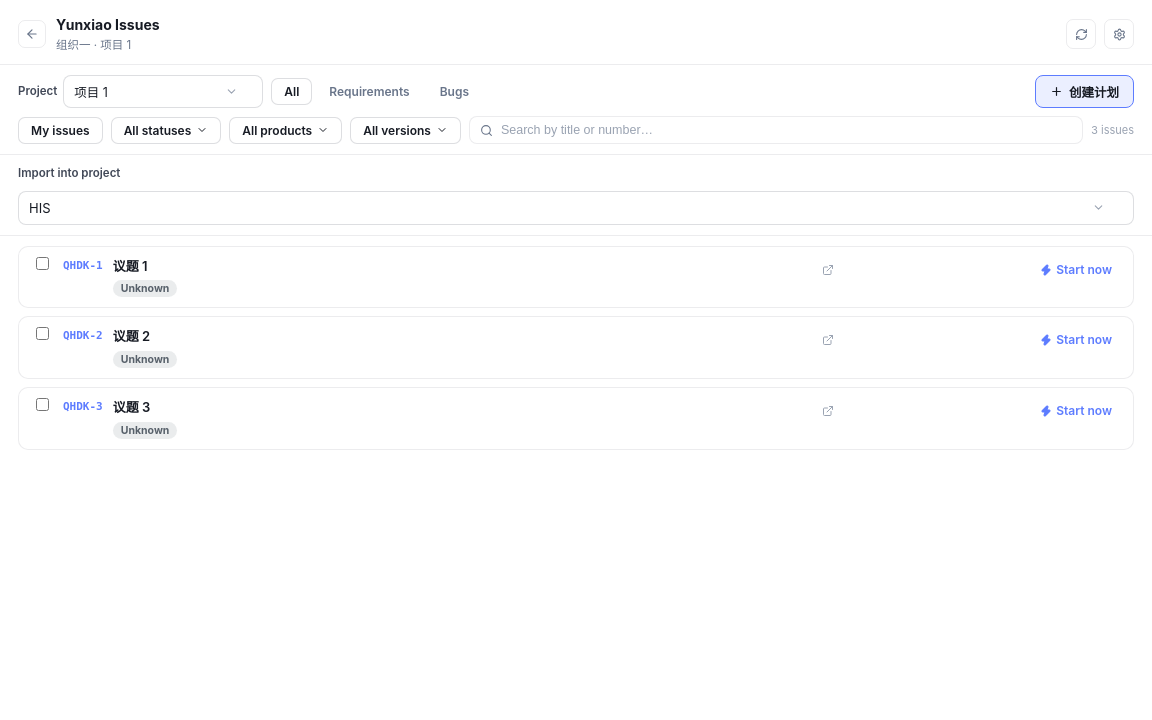
Scenario: YunxiaoView 添加到计划：勾选数与加入数一致 › 列表在勾选后收缩时，弹窗仍应带上全部 3 个已勾选议题
The width and height of the screenshot is (1152, 720).
Click the checkbox next to "QHDK-1".
click(42, 263)  # box x1=36 y1=256 x2=48 y2=270
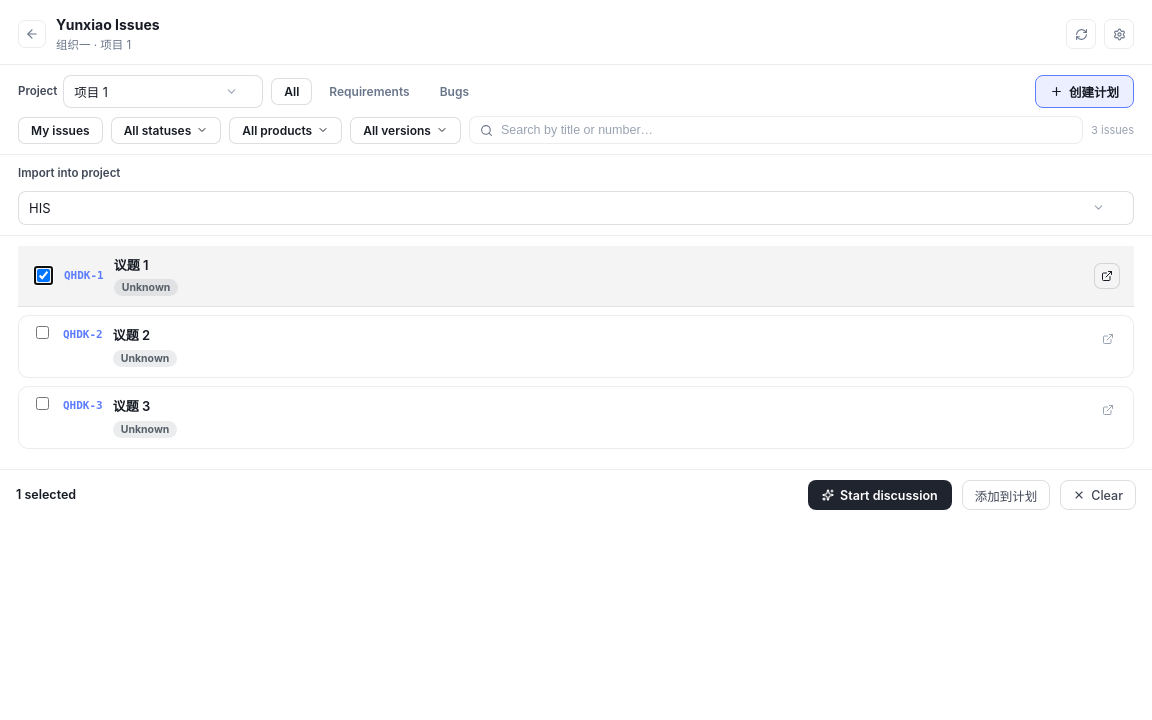
Click the checkbox next to "QHDK-2".
click(42, 333)  # box x1=36 y1=326 x2=48 y2=339
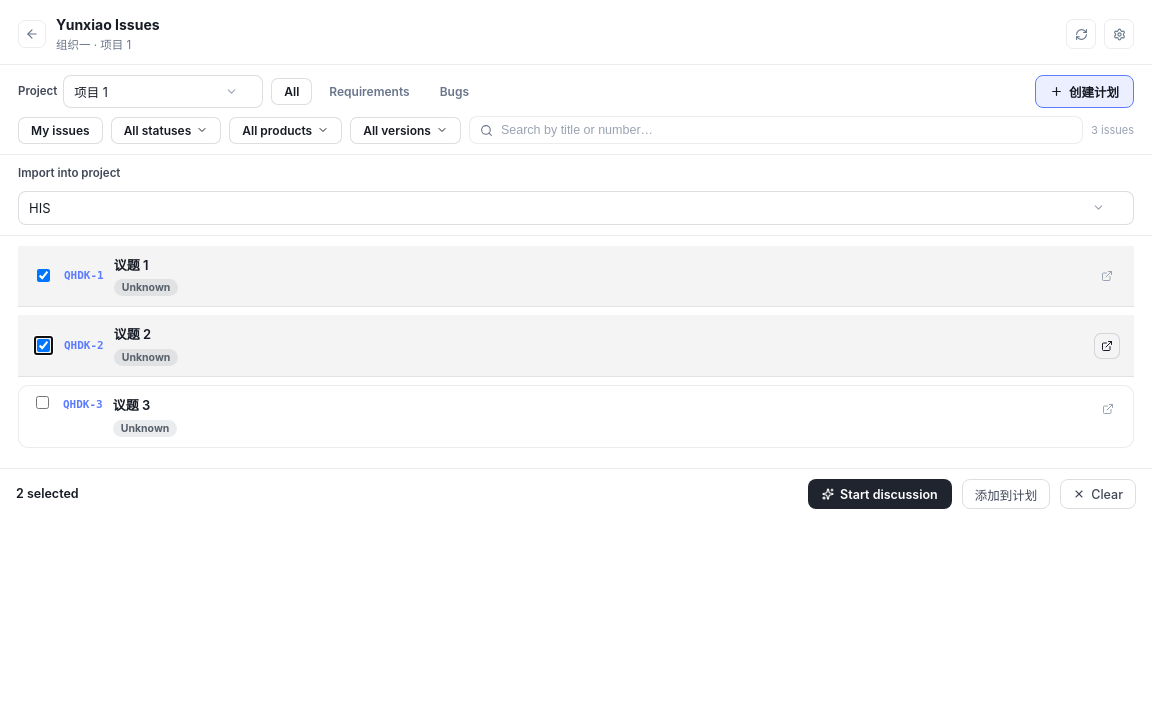
Click the checkbox next to "QHDK-3".
click(42, 403)  # box x1=36 y1=396 x2=48 y2=409
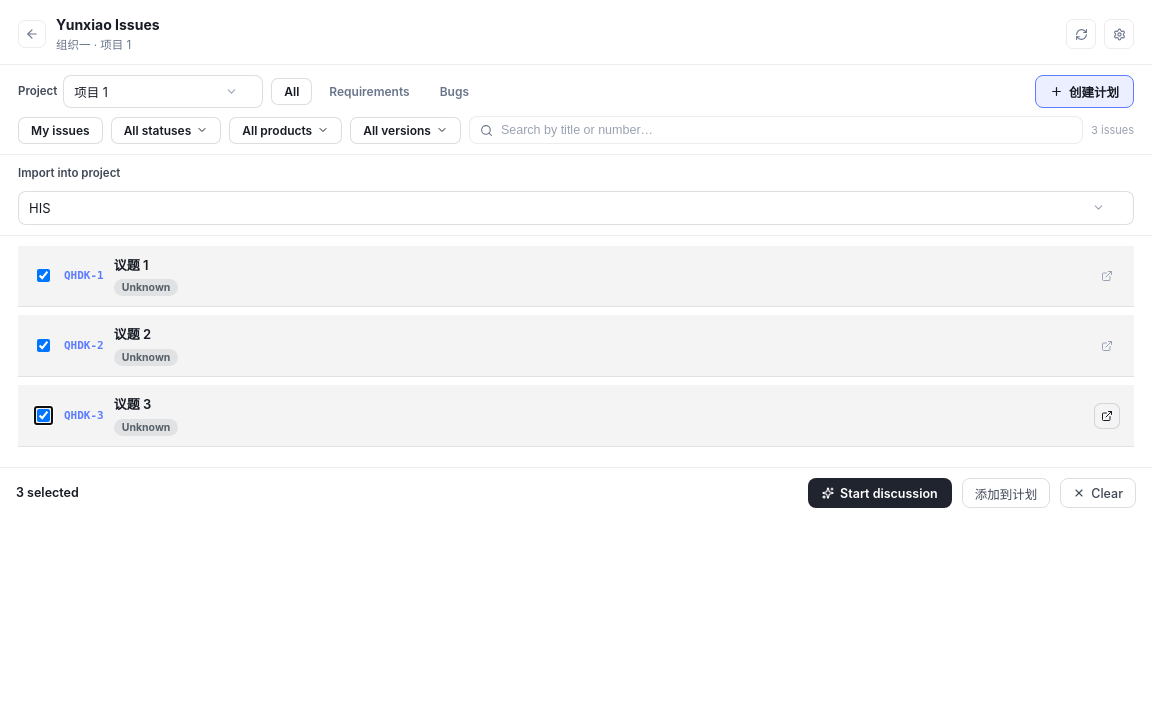
Expected: the text "3 selected" is shown, x1=16 y1=485 x2=79 y2=500
Click the button named "Refresh".
click(1081, 34)  # box x1=1066 y1=19 x2=1096 y2=49
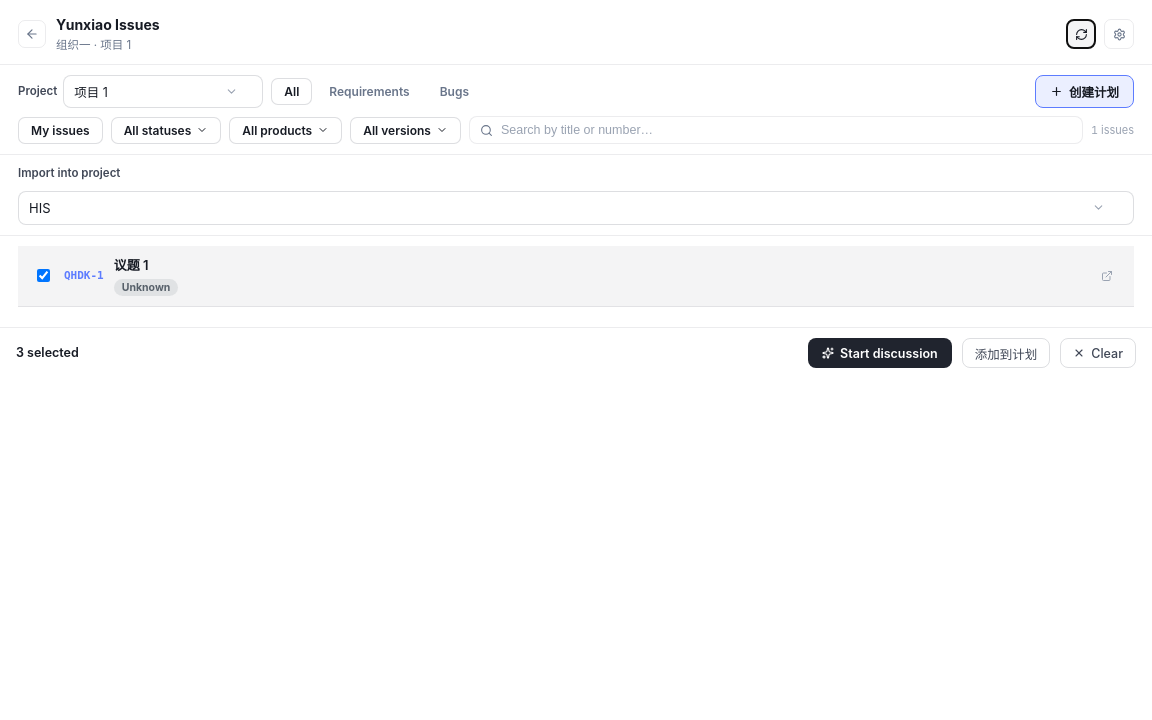
Expected: the text "3 selected" is shown, x1=16 y1=345 x2=79 y2=360
Expected: the number of checkboxes is 1, x1=36 y1=270 x2=50 y2=282
Click the button "添加到计划".
click(1006, 353)  # box x1=962 y1=338 x2=1050 y2=368
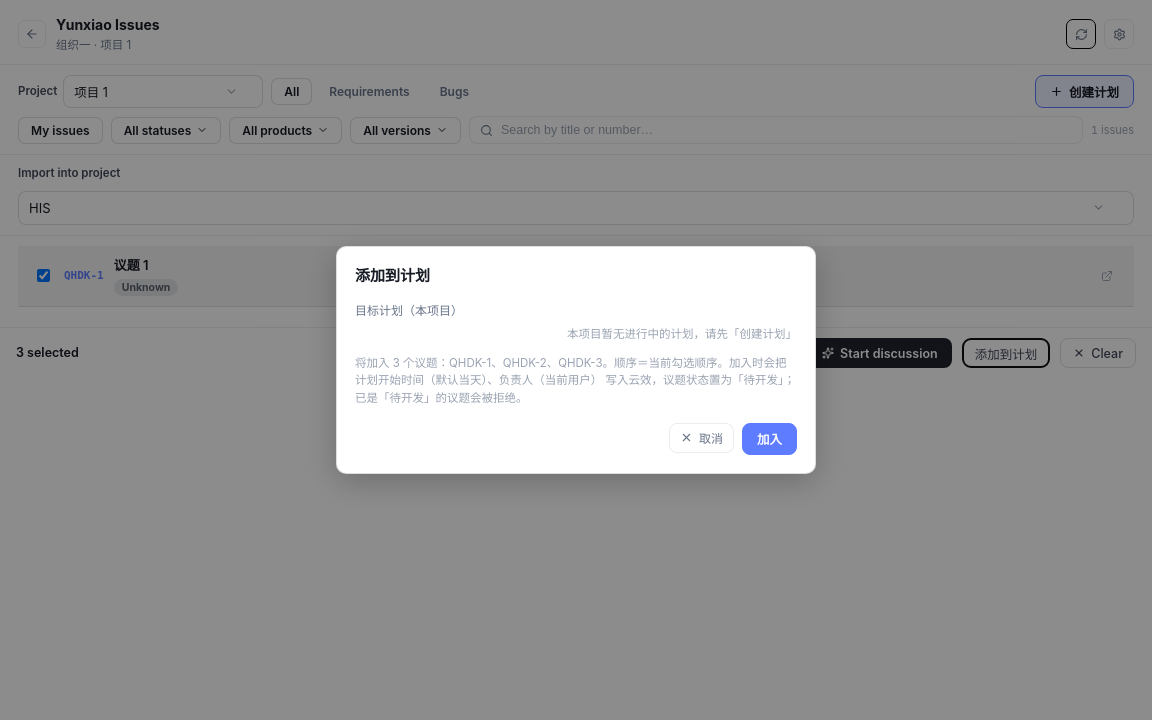
Expected: the text "将加入 3 个议题" is shown, x1=355 y1=355 x2=797 y2=407
Expected: the text "QHDK-1、QHDK-2、QHDK-3" is shown, x1=449 y1=356 x2=603 y2=370
